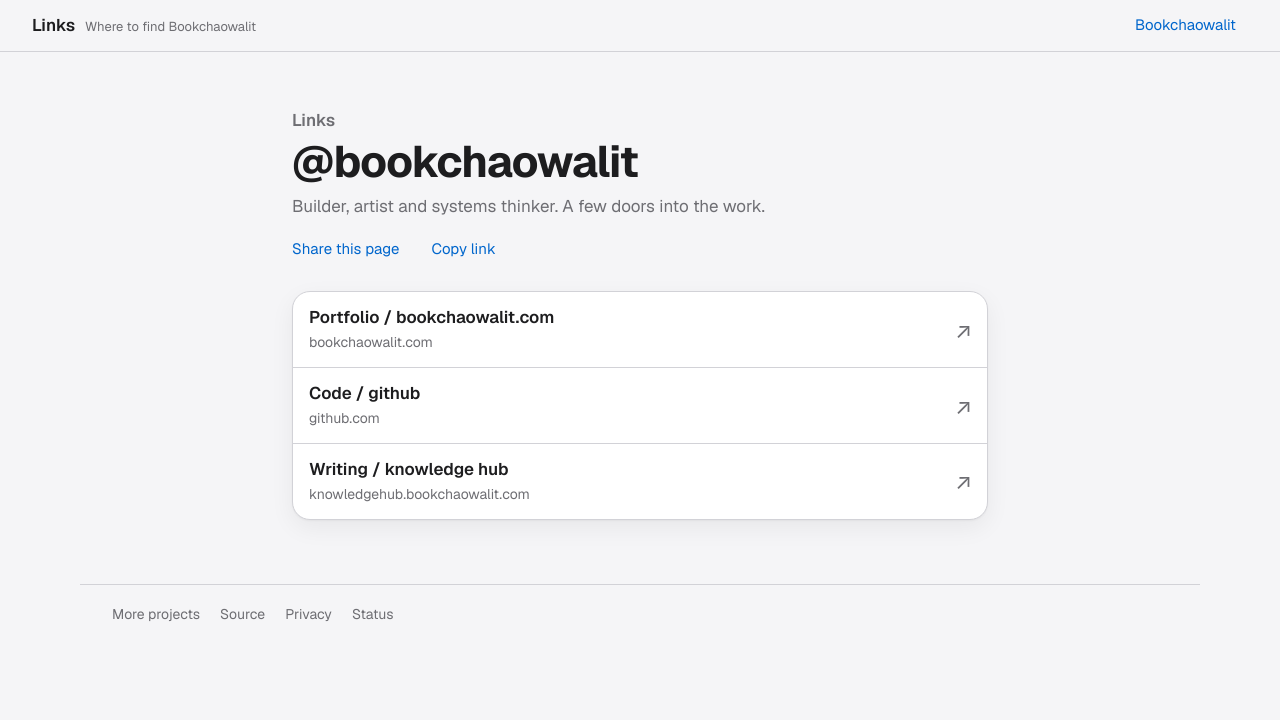
public link page › offers Copy link next to Share, so a device with no share target can still copy
Click the button "Copy link". click: point(464, 249)
box: [420,227,508,271]
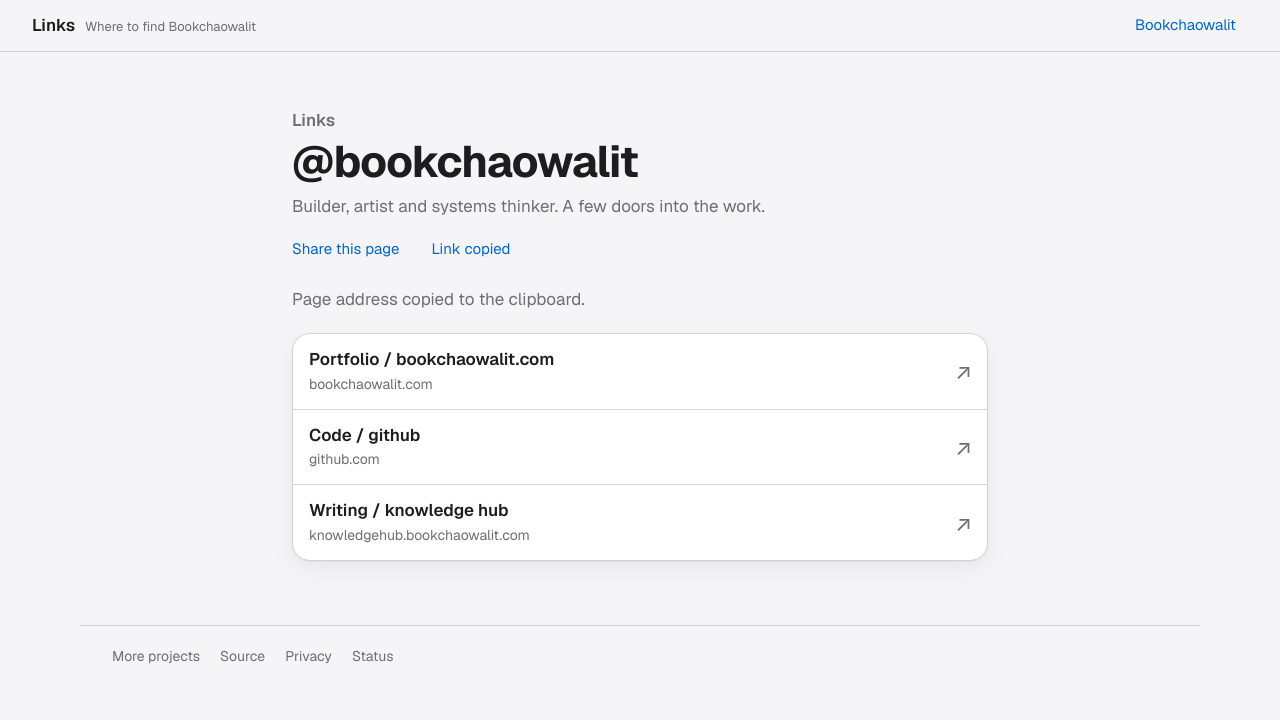
expect the button "Link copied" is shown: met, box [420,227,522,271]
expect the message with class "lt-share-result" reads "Page address copied to the clipboard.": met, box [292,288,585,310]
